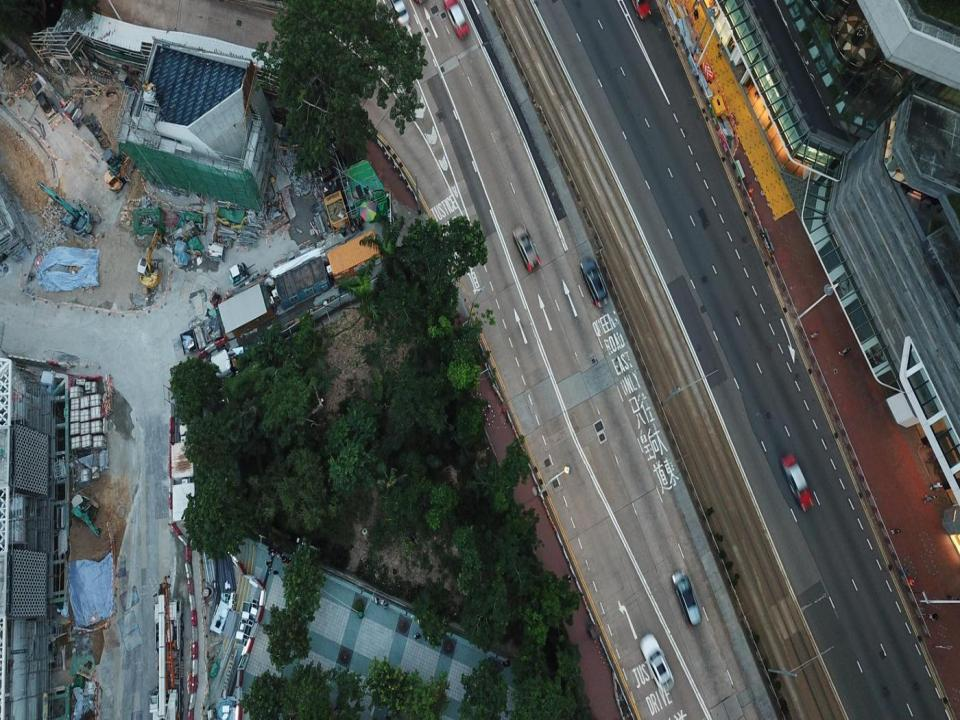car: (638, 630, 674, 691), (780, 452, 814, 513), (580, 255, 610, 307), (514, 224, 541, 272), (445, 0, 474, 39), (391, 0, 410, 28), (632, 0, 654, 18)
truck: (150, 572, 184, 719)
van: (671, 564, 703, 626)
